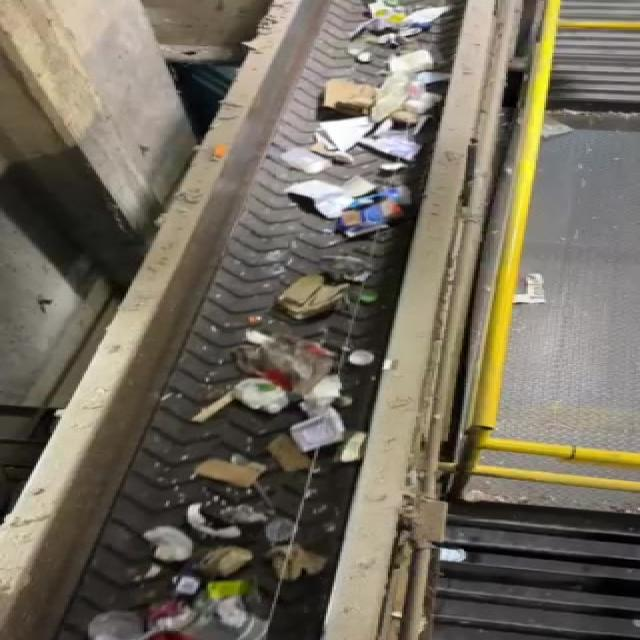paper: (195, 454, 288, 494)
ps: (282, 408, 354, 452)
